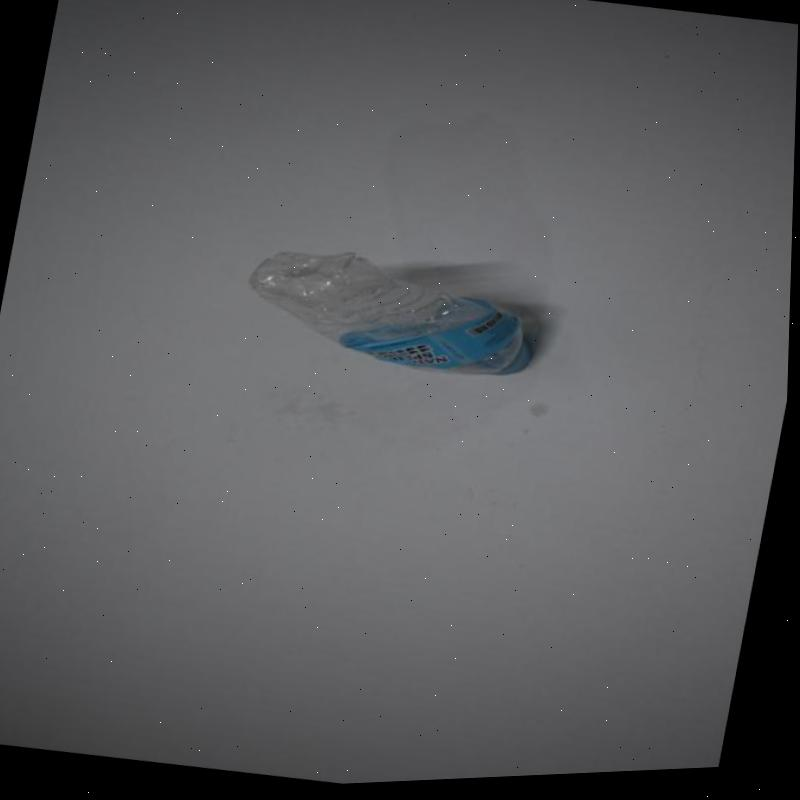botella: (236, 231, 551, 398)
